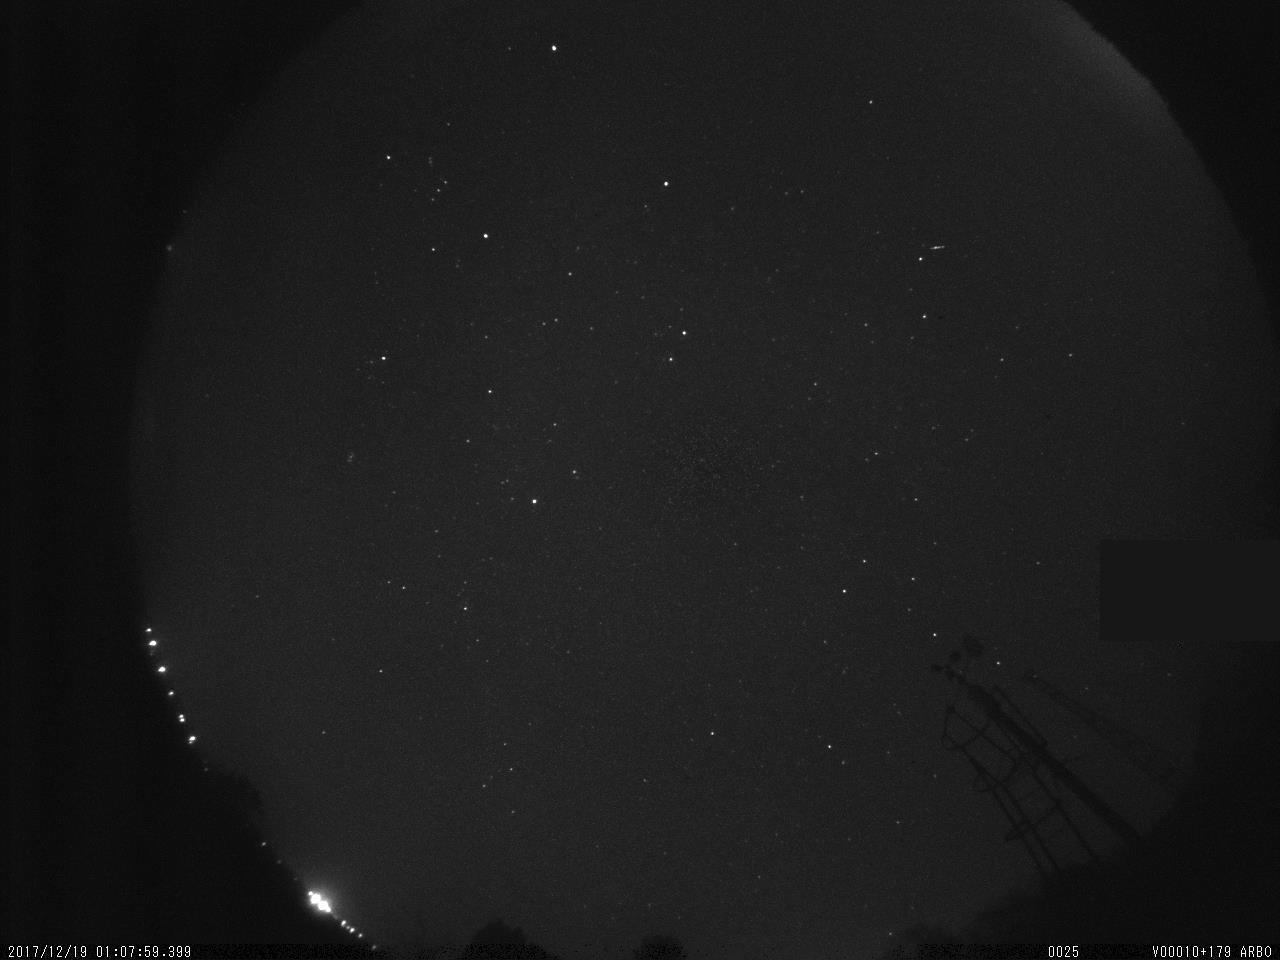Meteor: (921, 236, 952, 259)
